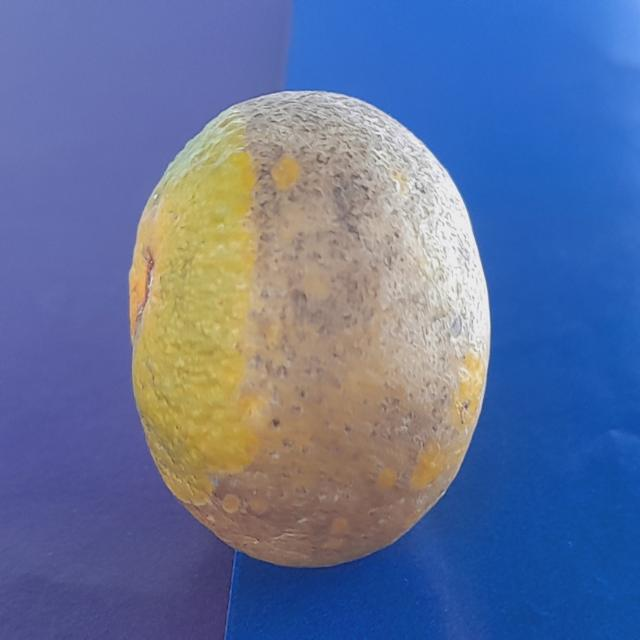thrips: (118, 83, 511, 587)
